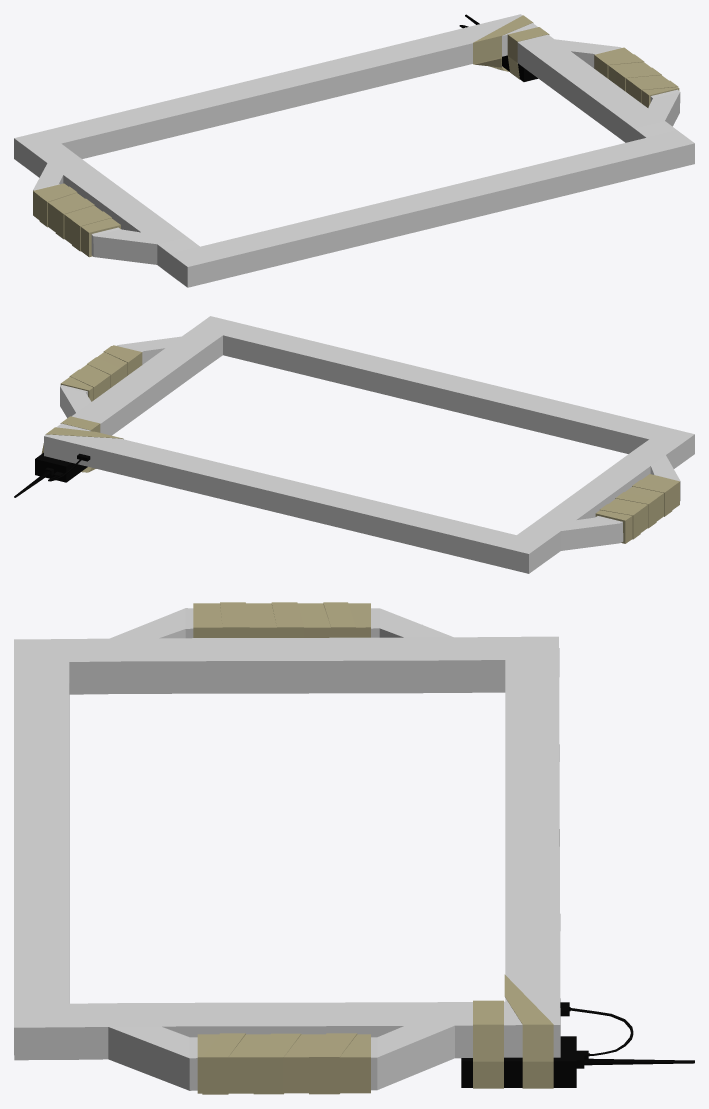
Rendered from StencilTablet_ANIM_final2.fbx.
3 views of the same model, one above another, from view 1: azimuth 30°, elevation 25°; view 2: azimuth 150°, elevation 25°; view 3: azimuth 270°, elevation 25° (orthographic). The views are drawn at different scales.
Parts seen in each view (by area): view 1: Tablet_EXP; view 2: Tablet_EXP; view 3: Tablet_EXP.
Part boxes in pixels (<box>): Tablet_EXP: <box>14,14,694,287</box>; Tablet_EXP: <box>14,316,694,573</box>; Tablet_EXP: <box>14,602,694,1094</box>.
Size of the model in its own units: 139 by 8.91 by 88.12.
